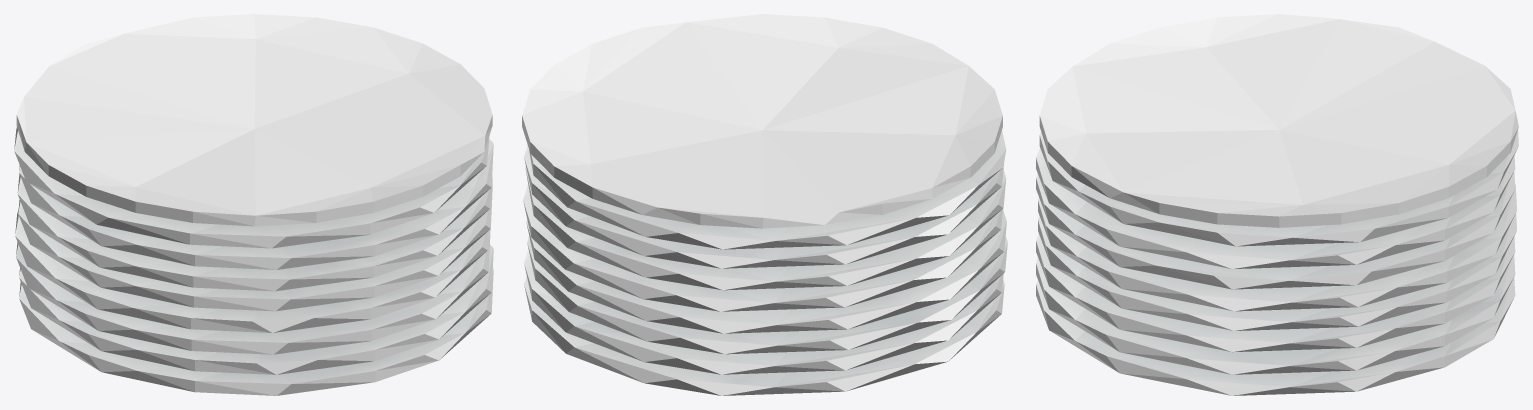
The model's file is dish2_2a.dae.
3 renders of one model, left to right at view 1: azimuth 30°, elevation 25°; view 2: azimuth 150°, elevation 25°; view 3: azimuth 270°, elevation 25°, orthographic.
Parts seen in each view (by area): view 1: node; view 2: node; view 3: node.
Boxes of the visible parts, bbox=[...] form: node: bbox=[14, 14, 493, 395]; node: bbox=[522, 14, 1007, 395]; node: bbox=[1036, 14, 1518, 395].
Size of the model in its own units: 0.2676 by 0.1228 by 0.2691.
Materials: 1 (1 with a texture image).
